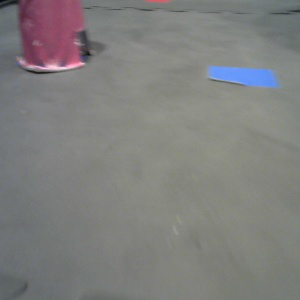middle: (15, 1, 96, 73)
